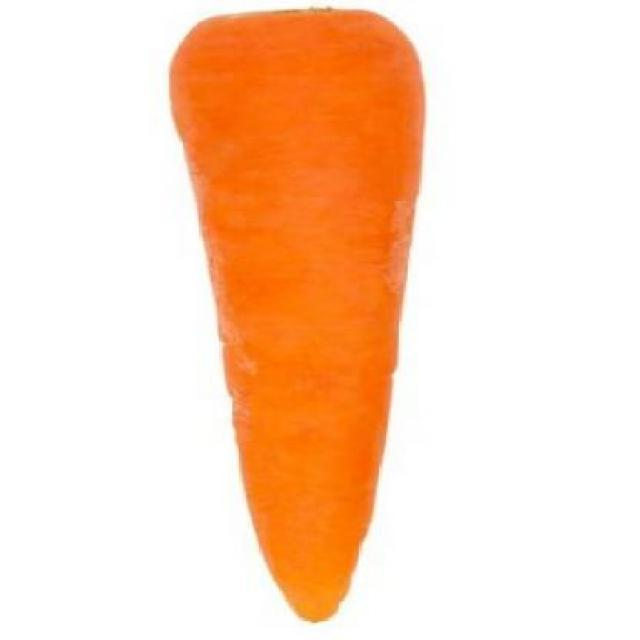carrot: (161, 6, 436, 624)
